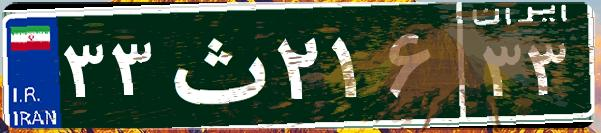1: (330, 28, 385, 110)
2: (273, 28, 330, 110)
3: (57, 26, 110, 107), (475, 38, 525, 113), (110, 28, 158, 105), (525, 38, 570, 115)
6: (385, 28, 445, 110)
ث: (158, 15, 273, 115)
